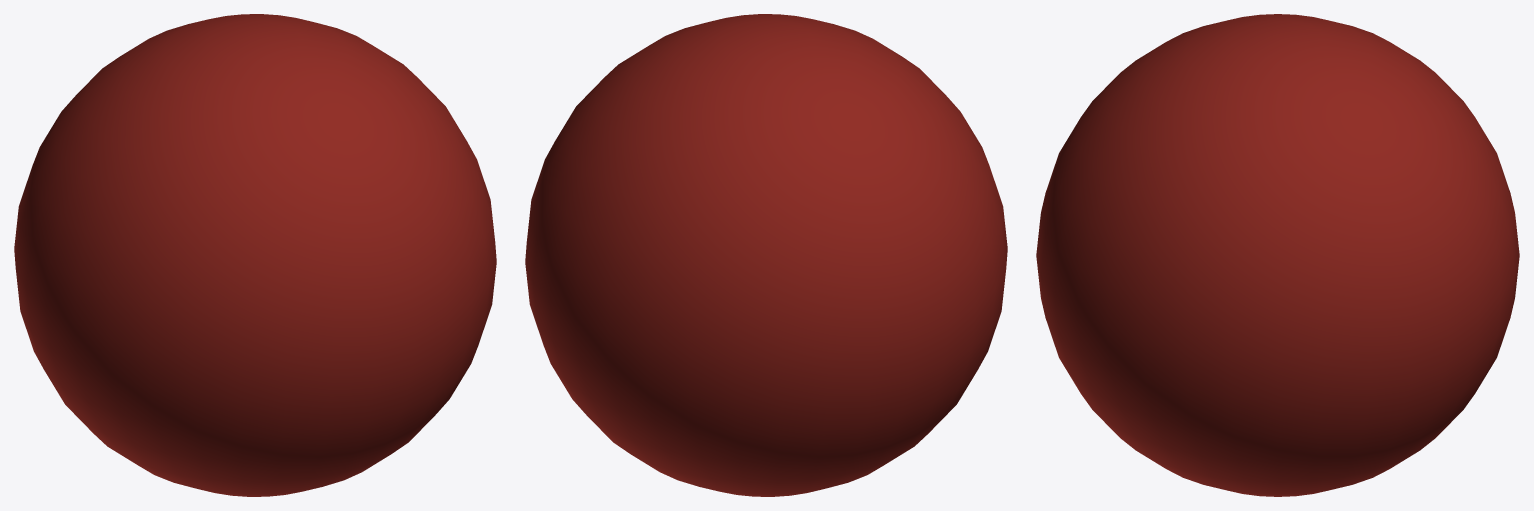
The model's file is Health_PickUp.FBX.
3 views of the same model, side by side, from view 1: azimuth 30°, elevation 25°; view 2: azimuth 150°, elevation 25°; view 3: azimuth 270°, elevation 25° (orthographic).
Visible parts, largest first — view 1: Sphere001; view 2: Sphere001; view 3: Sphere001.
Part boxes in pixels (x1,y1,x2,y2): Sphere001: (14, 14, 496, 496); Sphere001: (525, 14, 1007, 496); Sphere001: (1036, 14, 1519, 496).
Bounding box in the file's own units: 124 × 124 × 124.
